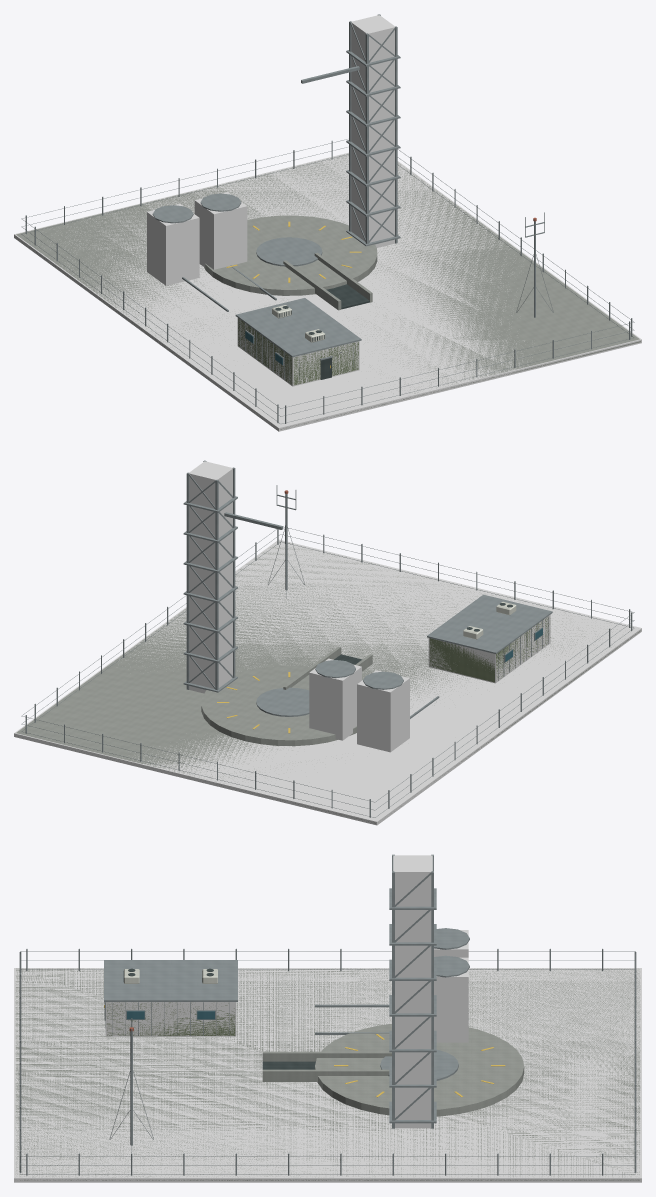
Rendered from LaunchSite.fbx.
3 views of the same model, one above another, from view 1: azimuth 30°, elevation 25°; view 2: azimuth 150°, elevation 25°; view 3: azimuth 270°, elevation 25° (orthographic). The views are drawn at different scales.
Parts seen in each view (by area): view 1: COL_Static, LOD0; view 2: COL_Static, LOD0; view 3: COL_Static, LOD0.
Part boxes in pixels (x1=…): COL_Static: x1=14, y1=15, x2=641, y2=431; LOD0: x1=16, y1=14, x2=640, y2=429; COL_Static: x1=14, y1=461, x2=641, y2=825; LOD0: x1=16, y1=460, x2=640, y2=823; COL_Static: x1=14, y1=855, x2=641, y2=1182; LOD0: x1=15, y1=854, x2=640, y2=1180.
Size of what is drawn, in the model's own units: 3800 by 2204 by 4800.
